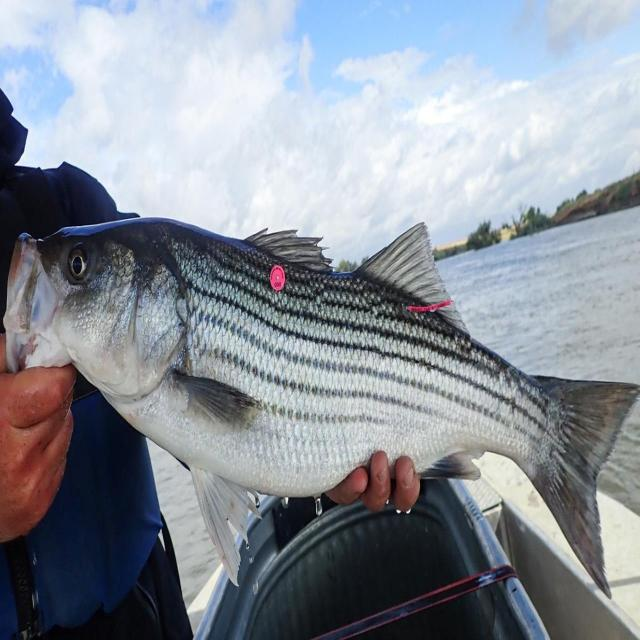Bass - Striped: (438, 207, 640, 381), (150, 444, 216, 602)
